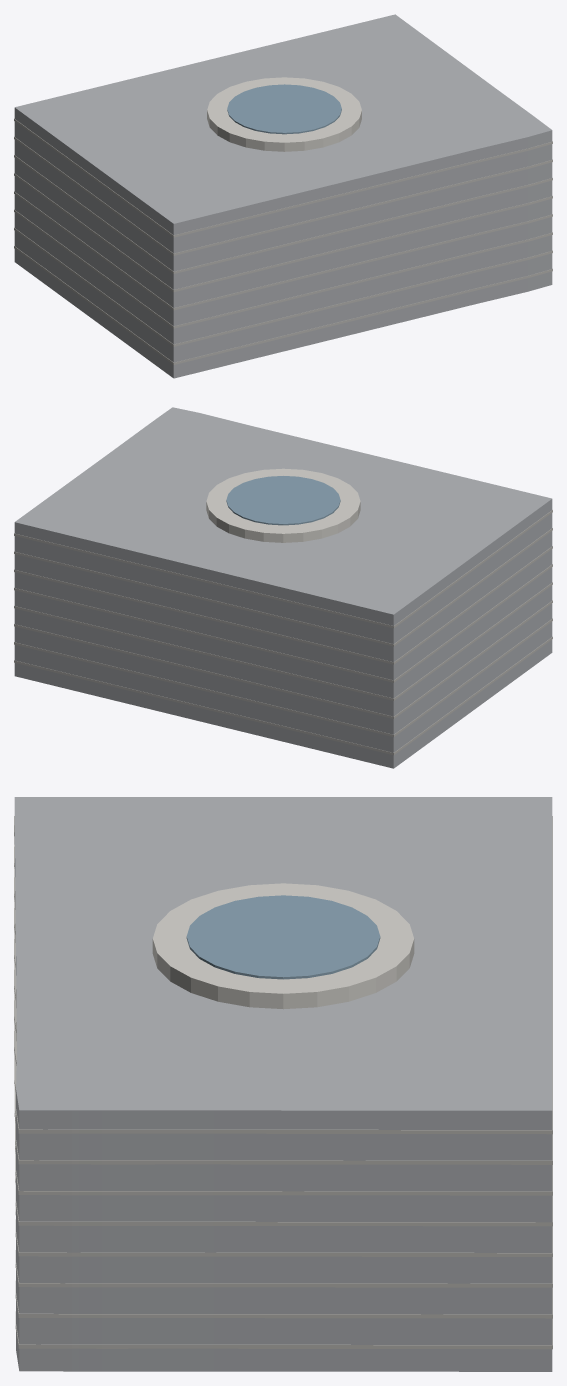
Rendered from landmark-basel-messe.328a522fb6.glb.
3 views of the same model, one above another, from view 1: azimuth 30°, elevation 25°; view 2: azimuth 150°, elevation 25°; view 3: azimuth 270°, elevation 25° (orthographic). The views are drawn at different scales.
Parts seen in each view (by area): view 1: building; view 2: building; view 3: building.
Part boxes in pixels (box(x1,y1,x2,y2)): building: box(14, 14, 552, 378); building: box(14, 407, 552, 768); building: box(14, 797, 552, 1371).
Bounding box in the file's own units: 87.79 × 36.3 × 63.61.
